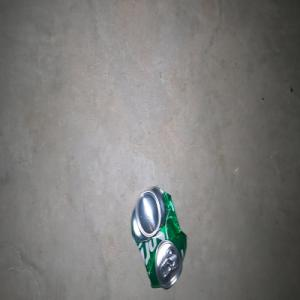SodaCan: (131, 185, 186, 289)
